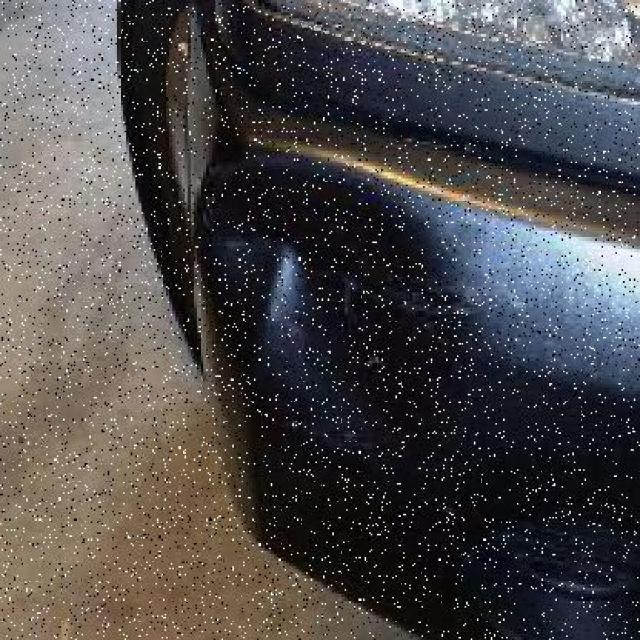car damage: (232, 174, 499, 521)
